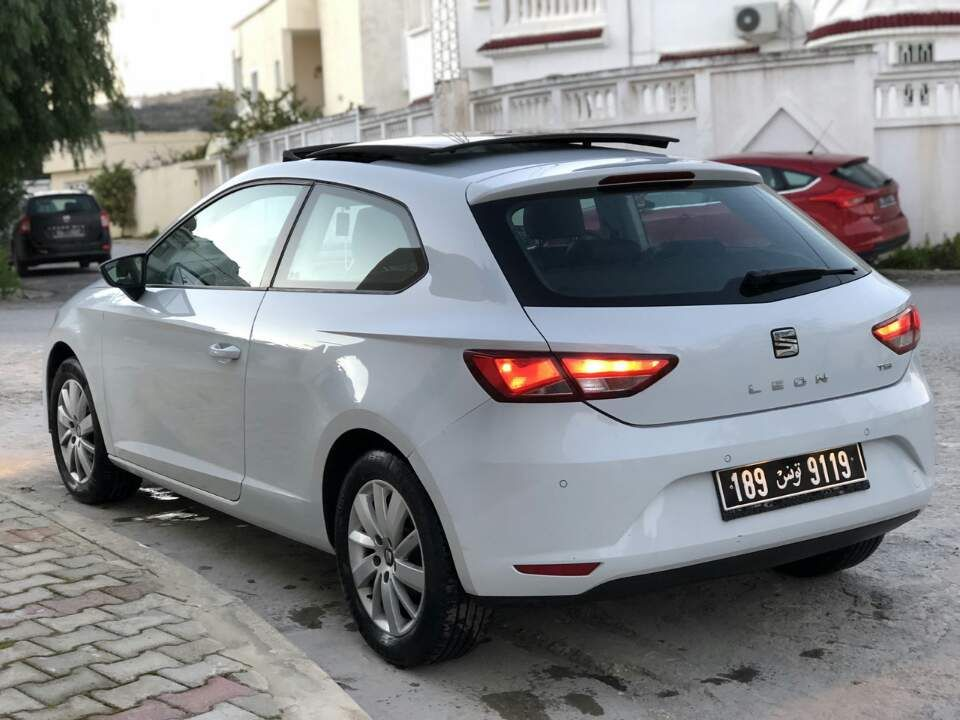LP: (713, 442, 868, 510)
